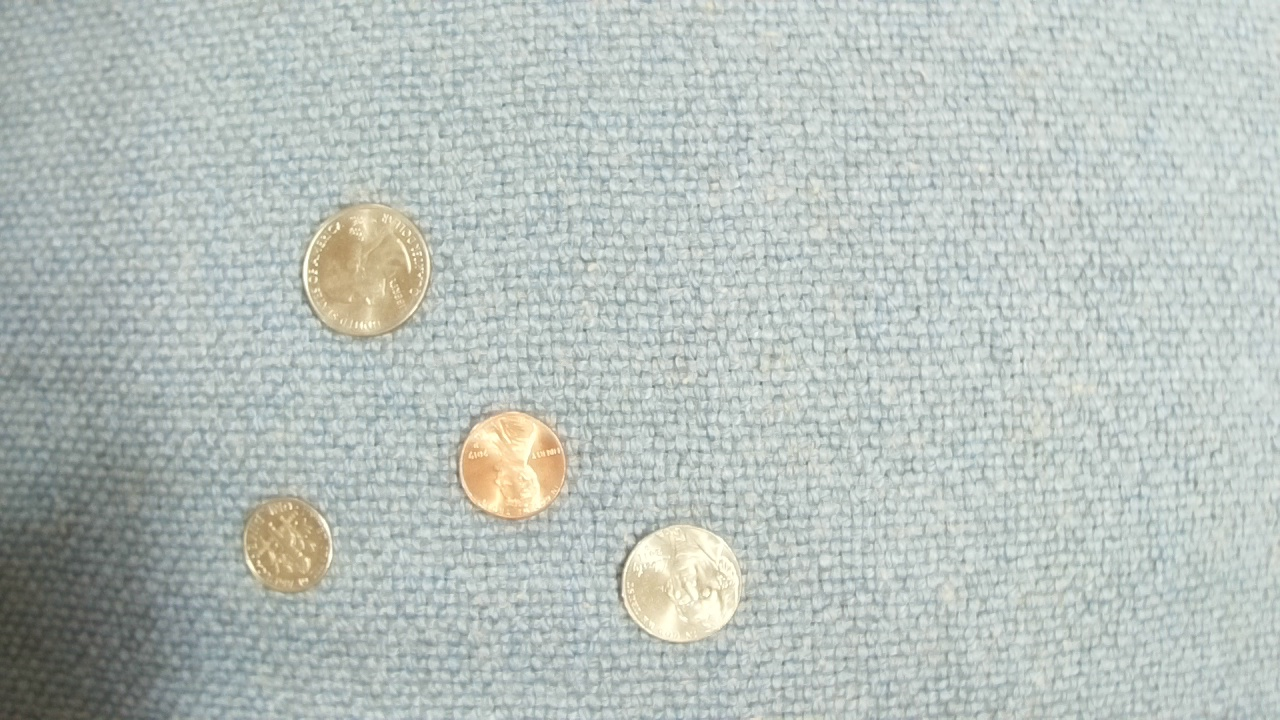dime: (240, 495, 336, 594)
nickel: (618, 522, 742, 642)
penny: (455, 408, 567, 520)
quarter: (300, 202, 433, 340)
